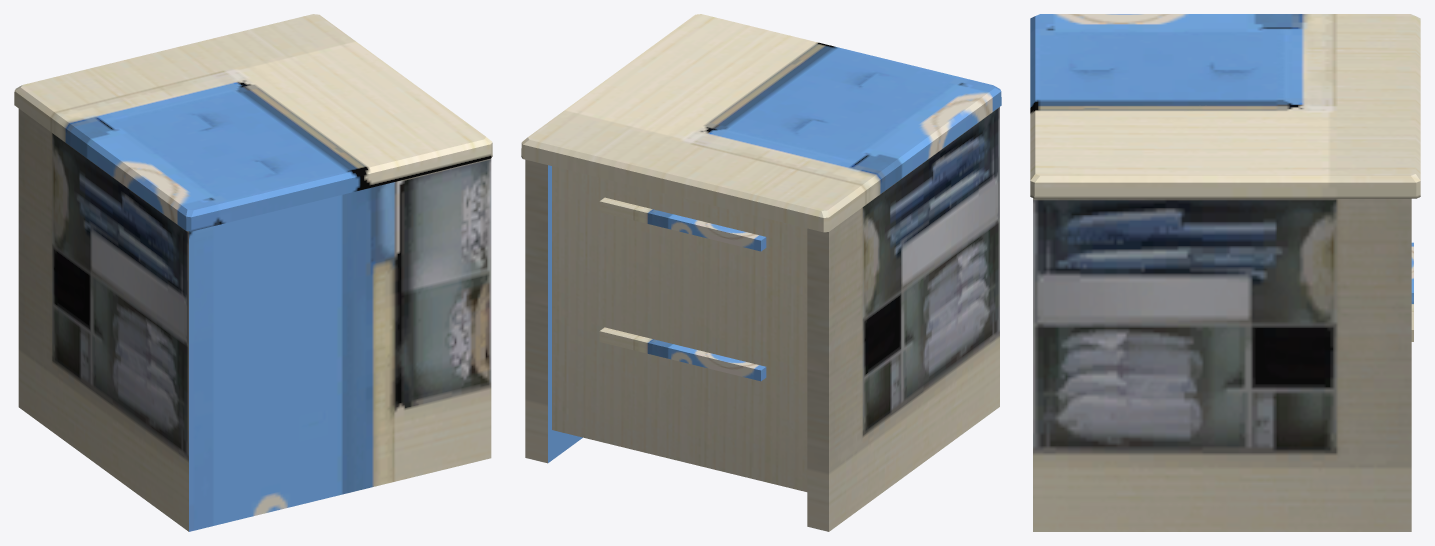
File: furni_0200522.FBX
3 views of the same model, side by side, from view 1: azimuth 30°, elevation 25°; view 2: azimuth 150°, elevation 25°; view 3: azimuth 270°, elevation 25° (orthographic). The views are drawn at different scales.
Visible parts, largest first — view 1: furni_0200522; view 2: furni_0200522; view 3: furni_0200522.
Part boxes in pixels (x1,y1,x2,y2): furni_0200522: (14,14,492,531); furni_0200522: (521,14,1001,531); furni_0200522: (1030,14,1420,531).
Bounding box in the file's own units: 80.24 × 79.98 × 79.69.
Materials: 1 (1 with a texture image).
